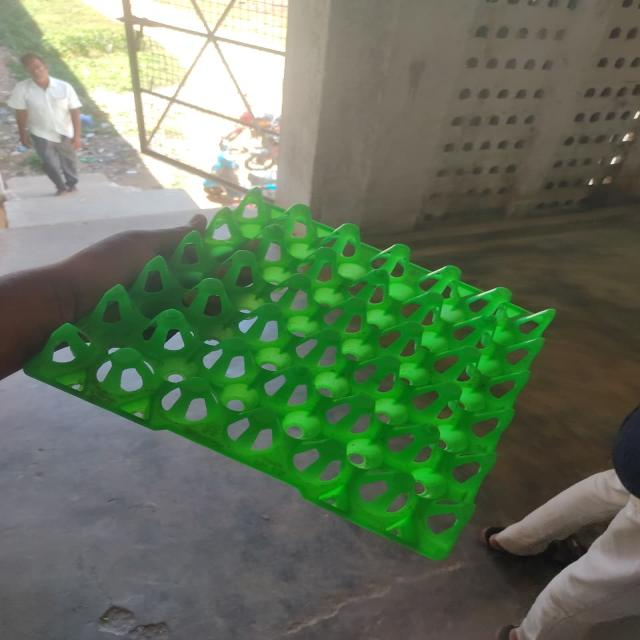egg_tray: (28, 195, 552, 558)
